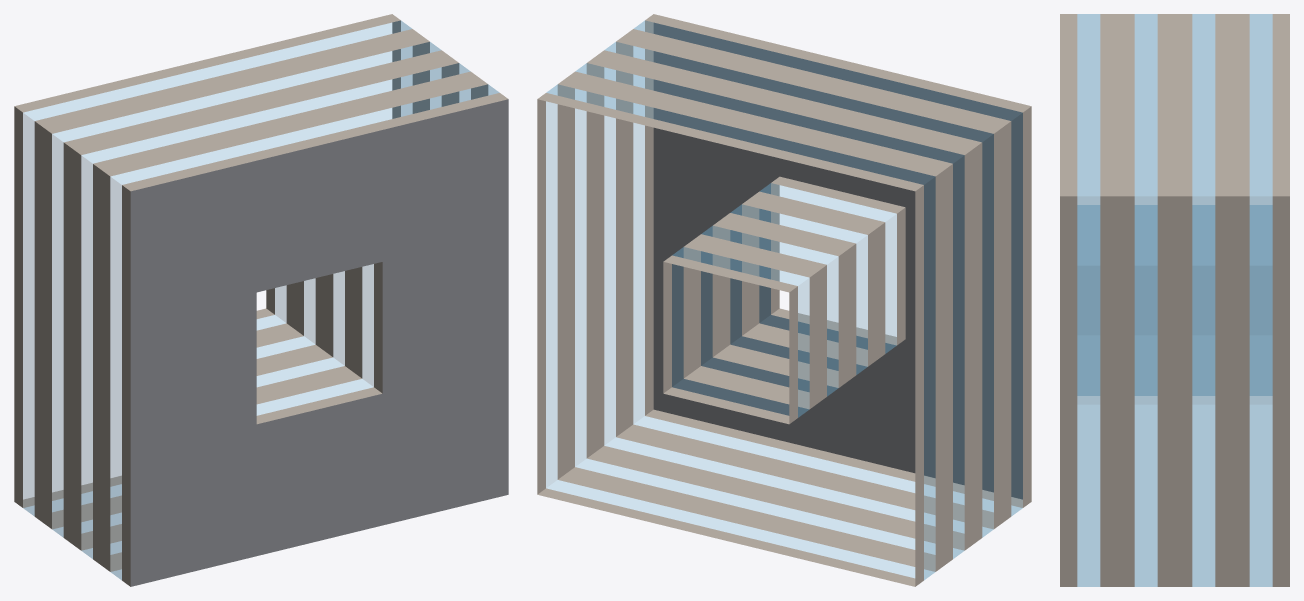
The picture shows the model from 3 angles, left to right: view 1: azimuth 30°, elevation 25°; view 2: azimuth 150°, elevation 25°; view 3: azimuth 270°, elevation 25°; orthographic projection.
Visible parts, largest first — view 1: Atap_Beton, Dinding_Bata, Kaca_Jendela; view 2: Dinding_Bata, Kaca_Jendela, Atap_Beton; view 3: Dinding_Bata, Kaca_Jendela.
Part boxes in pixels (x1=…): Atap_Beton: x1=130, y1=99, x2=508, y2=586; Dinding_Bata: x1=14, y1=14, x2=508, y2=586; Kaca_Jendela: x1=23, y1=20, x2=499, y2=580; Dinding_Bata: x1=537, y1=14, x2=1031, y2=586; Kaca_Jendela: x1=546, y1=20, x2=1022, y2=580; Atap_Beton: x1=653, y1=22, x2=1022, y2=499; Dinding_Bata: x1=1060, y1=14, x2=1289, y2=586; Kaca_Jendela: x1=1077, y1=14, x2=1272, y2=586.
Bounding box in the file's own units: 30 × 30 × 16.
